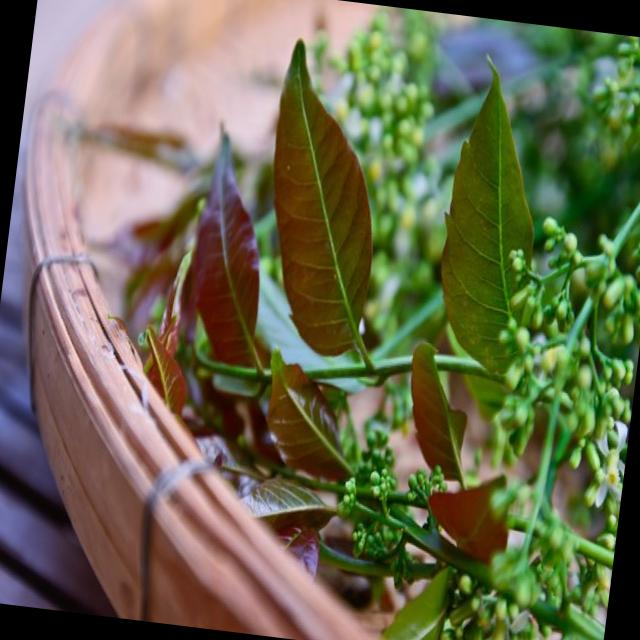Medicinal-Neem: (100, 9, 640, 516)
